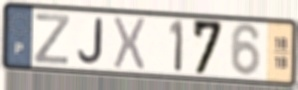1: (168, 18, 185, 74)
6: (228, 21, 265, 80)
7: (190, 18, 225, 77)
J: (76, 17, 105, 67)
X: (112, 15, 149, 73)
Z: (32, 11, 72, 66)
